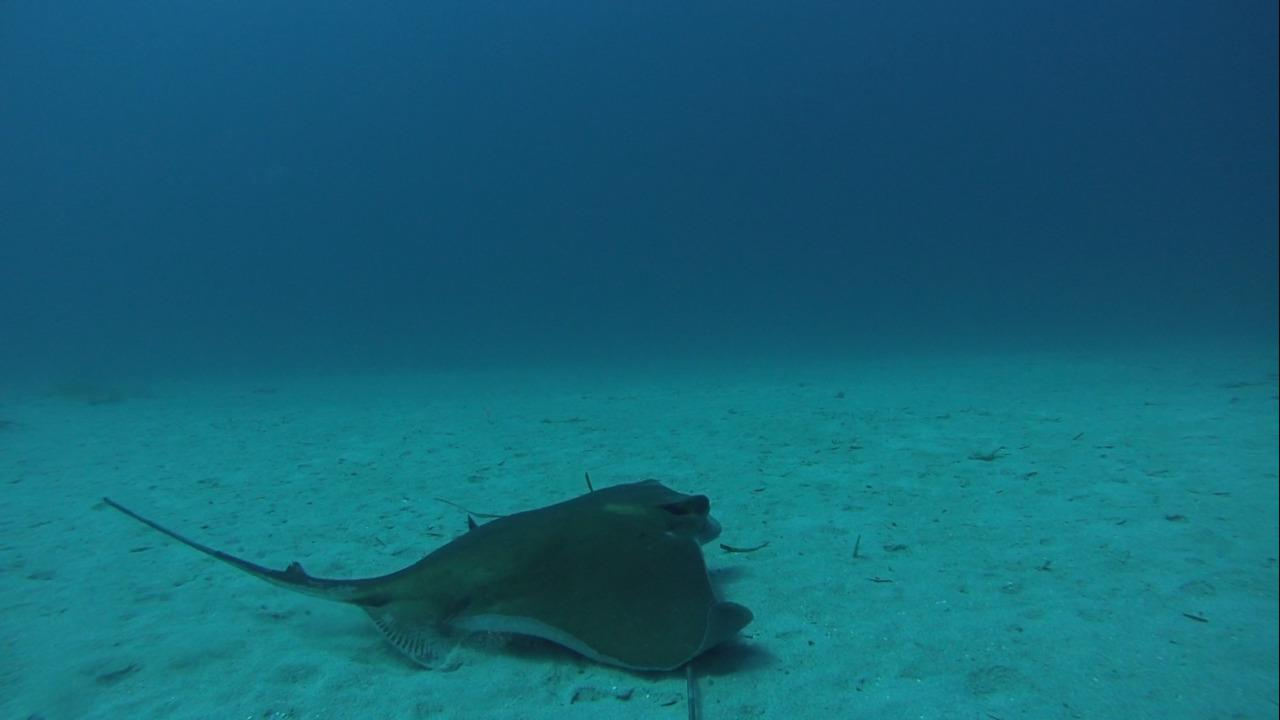myliobatis: (91, 473, 755, 687)
